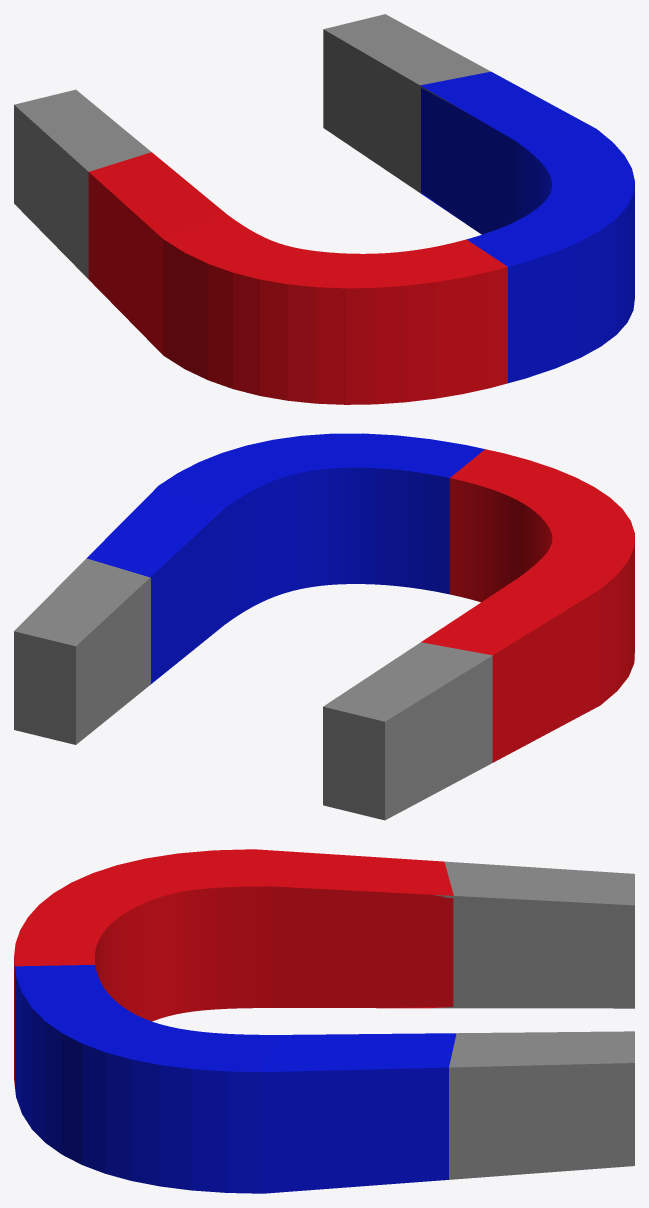
File: Magnet.fbx
3 renders of one model, top to bottom at view 1: azimuth 30°, elevation 25°; view 2: azimuth 150°, elevation 25°; view 3: azimuth 270°, elevation 25°, orthographic. The views are drawn at different scales.
Visible parts, largest first — view 1: Magnet; view 2: Magnet; view 3: Magnet.
Boxes of the visible parts, <box> form: Magnet: <box>14,14,634,404</box>; Magnet: <box>14,433,634,820</box>; Magnet: <box>14,849,634,1193</box>.
Bounding box in the file's own units: 58.7 × 14.92 × 69.1.
